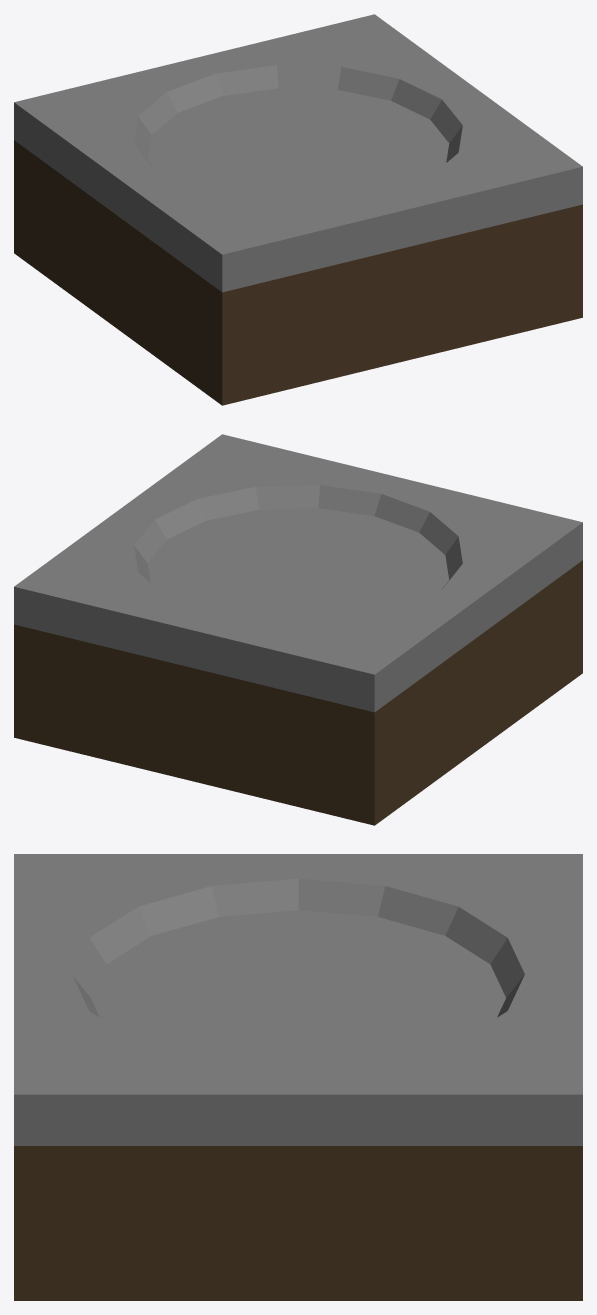
The model's file is plateStation.fbx.
The picture shows the model from 3 angles, top to bottom: view 1: azimuth 30°, elevation 25°; view 2: azimuth 150°, elevation 25°; view 3: azimuth 270°, elevation 25°; orthographic projection. The views are drawn at different scales.
Parts seen in each view (by area): view 1: Cube; view 2: Cube; view 3: Cube.
Part boxes in pixels (bbox=[...]): Cube: bbox=[14, 14, 582, 405]; Cube: bbox=[14, 434, 582, 825]; Cube: bbox=[14, 854, 582, 1300].
Bounding box in the file's own units: 100 × 40 × 100.
